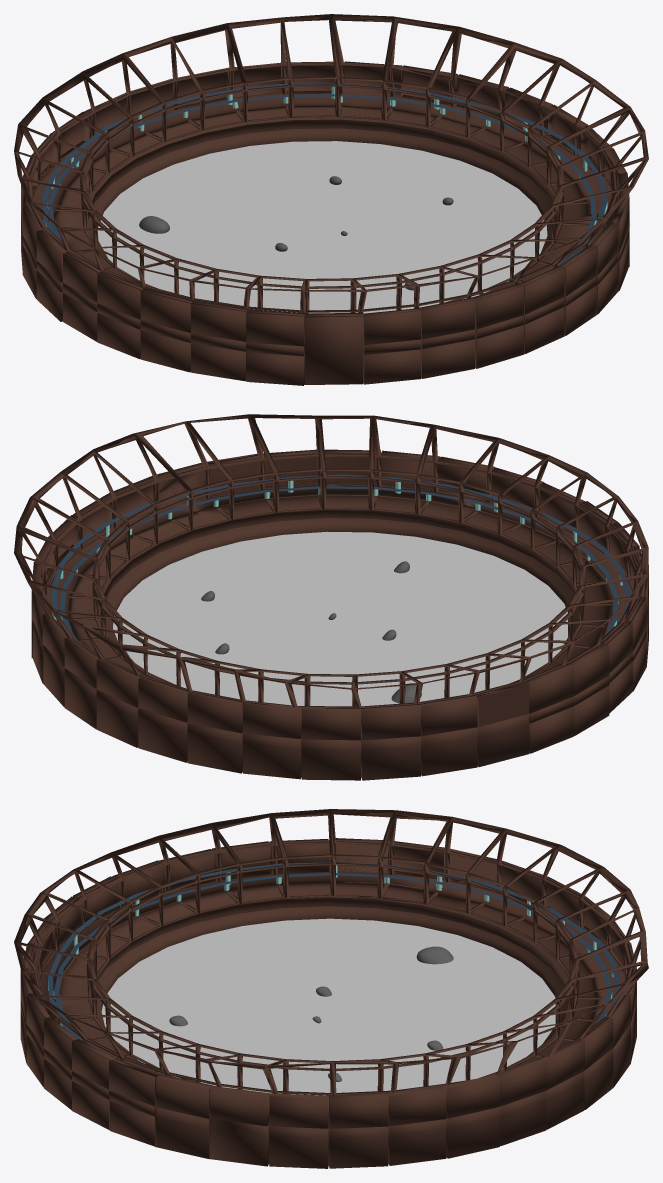
File: arena.glb
The picture shows the model from 3 angles, top to bottom: view 1: azimuth 30°, elevation 25°; view 2: azimuth 150°, elevation 25°; view 3: azimuth 270°, elevation 25°; orthographic projection.
Parts seen in each view (by area): view 1: Cylinder_s, Cylinder.002_s, Cylinder.001_s, Cylinder.003_s, Cylinder.004_s; view 2: Cylinder_s, Cylinder.002_s, Cylinder.001_s, Cylinder.003_s, Cylinder.004_s; view 3: Cylinder_s, Cylinder.002_s, Cylinder.001_s, Cylinder.003_s, Cylinder.004_s, Sphere.005_s.
Part boxes in pixels (<box>): Cylinder_s: <box>21,61,629,385</box>; Cylinder.002_s: <box>97,141,547,313</box>; Cylinder.001_s: <box>14,14,648,313</box>; Cylinder.003_s: <box>42,83,607,266</box>; Cylinder.004_s: <box>43,86,607,245</box>; Cylinder_s: <box>31,449,648,780</box>; Cylinder.002_s: <box>113,531,567,706</box>; Cylinder.001_s: <box>14,414,648,738</box>; Cylinder.003_s: <box>52,474,630,639</box>; Cylinder.004_s: <box>52,480,622,627</box>; Cylinder_s: <box>20,838,636,1168</box>; Cylinder.002_s: <box>101,918,555,1095</box>; Cylinder.001_s: <box>14,809,648,1095</box>; Cylinder.003_s: <box>48,862,620,1047</box>; Cylinder.004_s: <box>48,865,613,1026</box>; Sphere.005_s: <box>416,946,453,964</box>.
Size of the model in its own units: 11.52 by 2.24 by 11.53.
